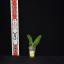leaf: (33, 35, 42, 45), (27, 35, 32, 45), (33, 41, 40, 46), (29, 41, 32, 47), (33, 46, 37, 48), (32, 42, 33, 45)
